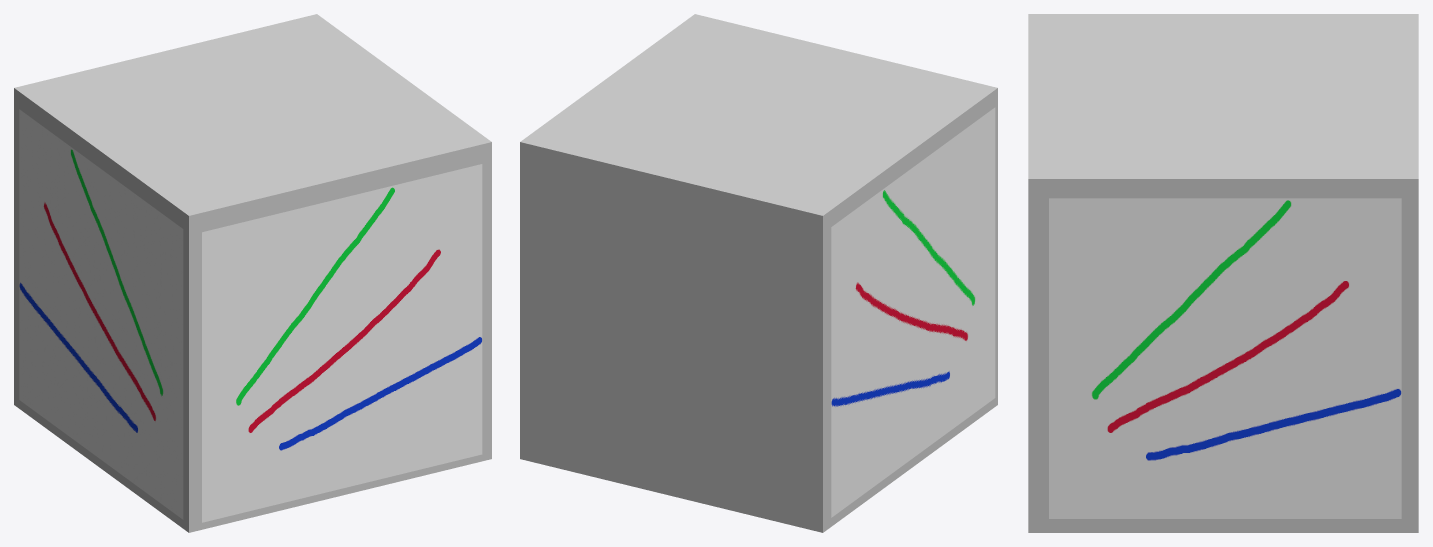
The model's file is box_lines_points.dae.
3 renders of one model, left to right at view 1: azimuth 30°, elevation 25°; view 2: azimuth 150°, elevation 25°; view 3: azimuth 270°, elevation 25°, orthographic. The views are drawn at different scales.
Visible parts, largest first — view 1: lines, Cube, lines.002; view 2: Cube, lines.002; view 3: lines.001, Cube.
Boxes of the visible parts, box(x1,y1,x2,y2) form: lines: box(202, 164, 482, 522); Cube: box(14, 14, 491, 532); lines.002: box(19, 109, 183, 519); Cube: box(520, 14, 997, 532); lines.002: box(831, 107, 995, 517); lines.001: box(1049, 198, 1401, 518); Cube: box(1028, 14, 1418, 532).
Bounding box in the file's own units: 2.02 × 2.01 × 2.
Materials: 2 (1 with a texture image).
